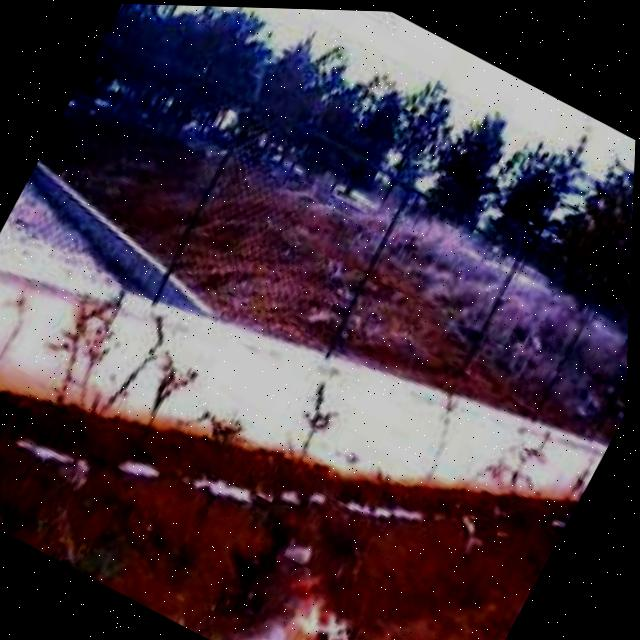Fire: (247, 551, 382, 640)
